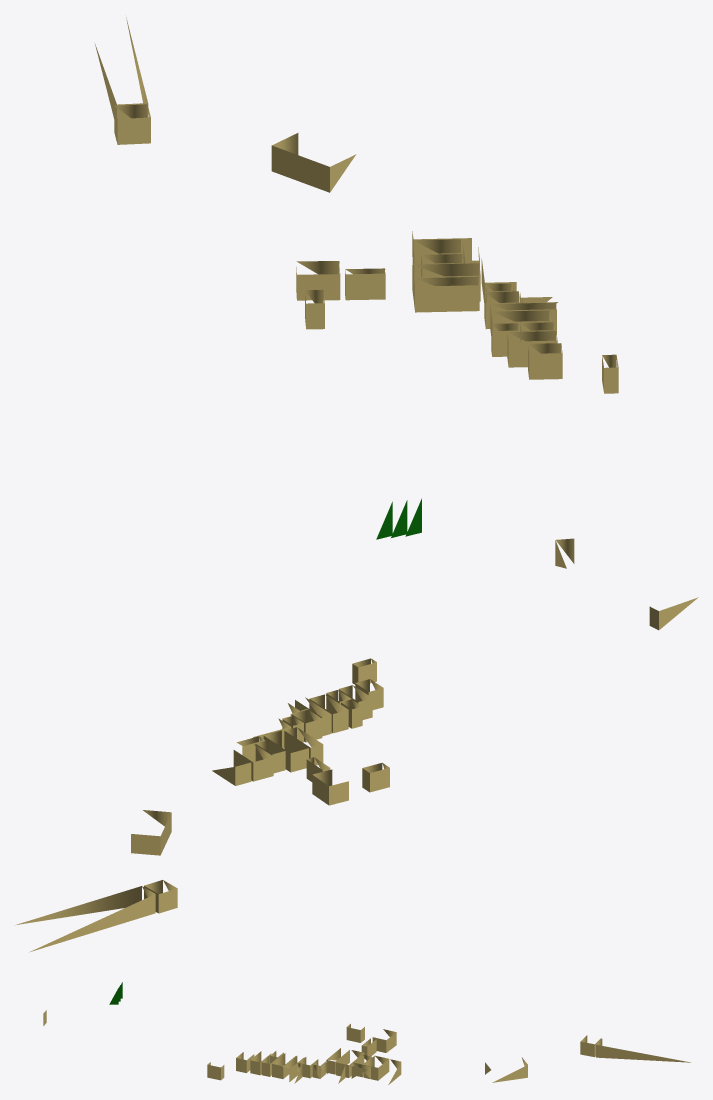
3 views of the same model, one above another, from view 1: azimuth 30°, elevation 25°; view 2: azimuth 150°, elevation 25°; view 3: azimuth 270°, elevation 25° (orthographic). The views are drawn at different scales.
Bounding box in the file's own units: 110 × 10 × 359.
